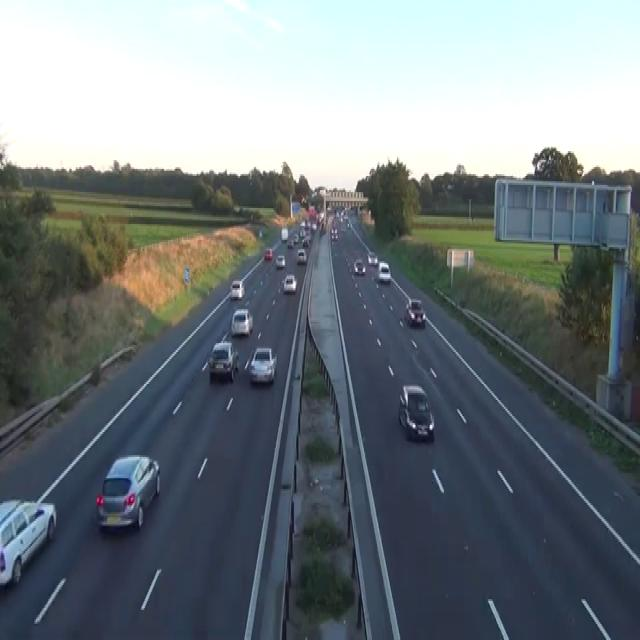Car: (95, 454, 160, 532), (0, 498, 56, 588), (398, 384, 434, 441), (208, 342, 239, 382), (248, 347, 277, 384), (230, 308, 253, 336), (404, 299, 426, 327), (229, 279, 244, 299), (283, 274, 297, 293), (378, 261, 390, 283), (353, 258, 365, 274), (296, 247, 307, 263), (367, 251, 378, 265), (275, 254, 285, 268), (330, 228, 338, 242), (345, 256, 352, 272), (264, 247, 272, 260), (307, 204, 315, 217), (316, 212, 324, 222), (319, 222, 325, 235), (291, 231, 298, 242), (300, 194, 307, 204), (446, 182, 454, 190), (286, 238, 293, 247), (301, 237, 308, 246), (340, 224, 346, 231), (311, 222, 316, 230), (347, 220, 351, 230), (259, 228, 262, 236)
